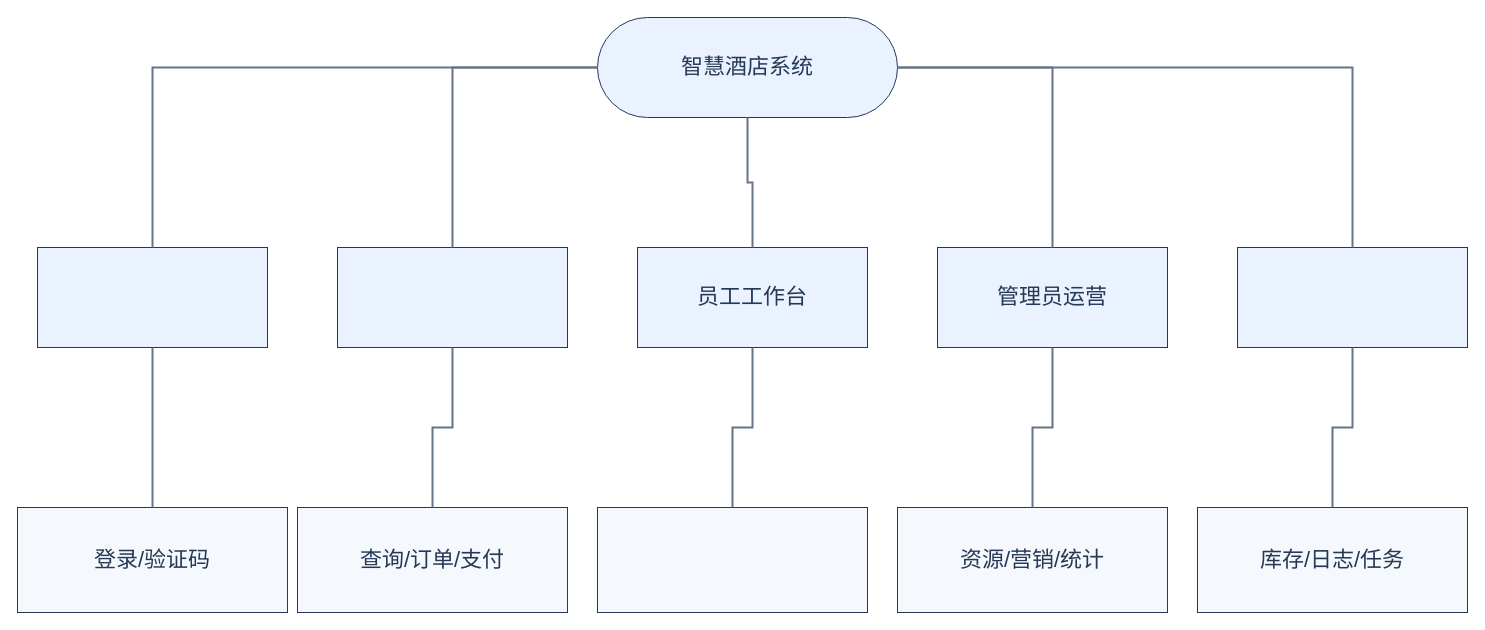
This 1485x630 diagram has some shape labels left out. The box of each missing label's shape, as (x1, y1, x2, y2) in pixels:
入住/退房/房态: (596, 506, 868, 612)
基础支撑: (1236, 246, 1468, 348)
账号与权限: (36, 246, 268, 348)
顾客预订: (336, 246, 568, 348)
